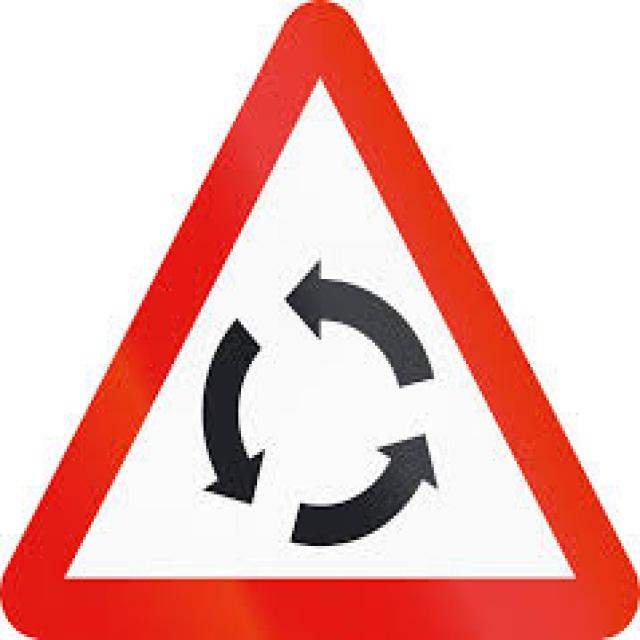SensGiratoire: (0, 6, 640, 630)
